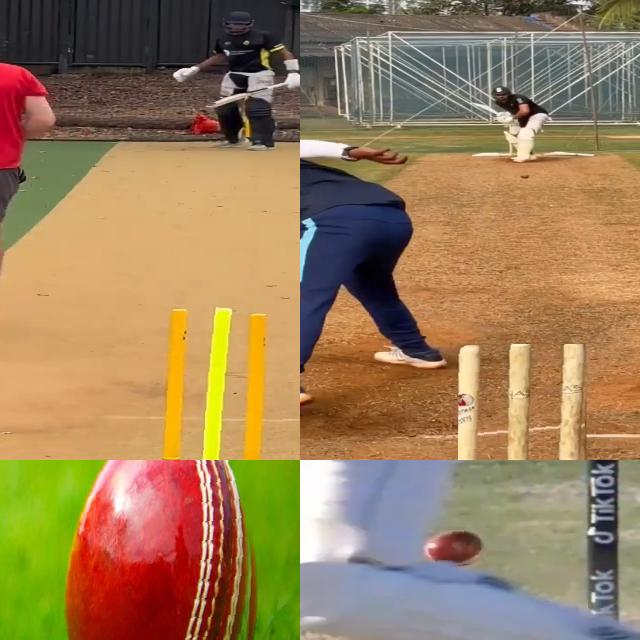Cricket ball: (57, 460, 260, 640), (421, 530, 488, 568), (521, 174, 529, 179)
Stumps: (151, 304, 289, 460), (457, 344, 590, 460)
